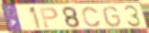1: (28, 6, 42, 30)
3: (123, 4, 143, 29)
8: (62, 6, 82, 30)
C: (81, 6, 102, 28)
G: (102, 6, 123, 28)
P: (39, 7, 59, 30)
